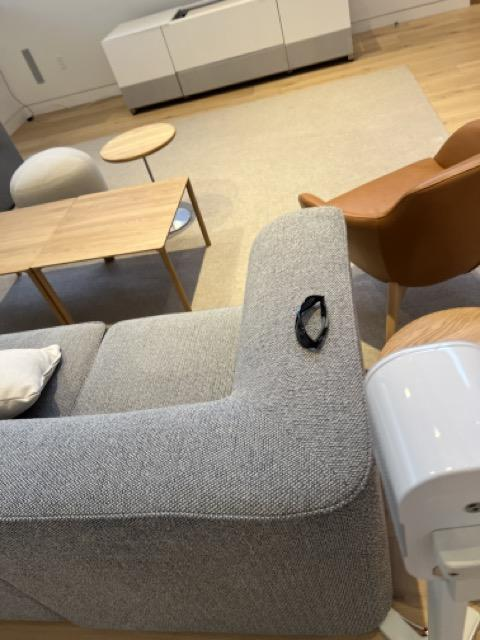Sunglasses: (295, 293, 330, 351)
